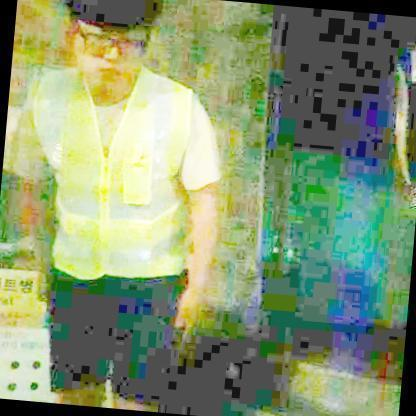no-helmet: (67, 0, 167, 57)
vest: (17, 63, 199, 290)
